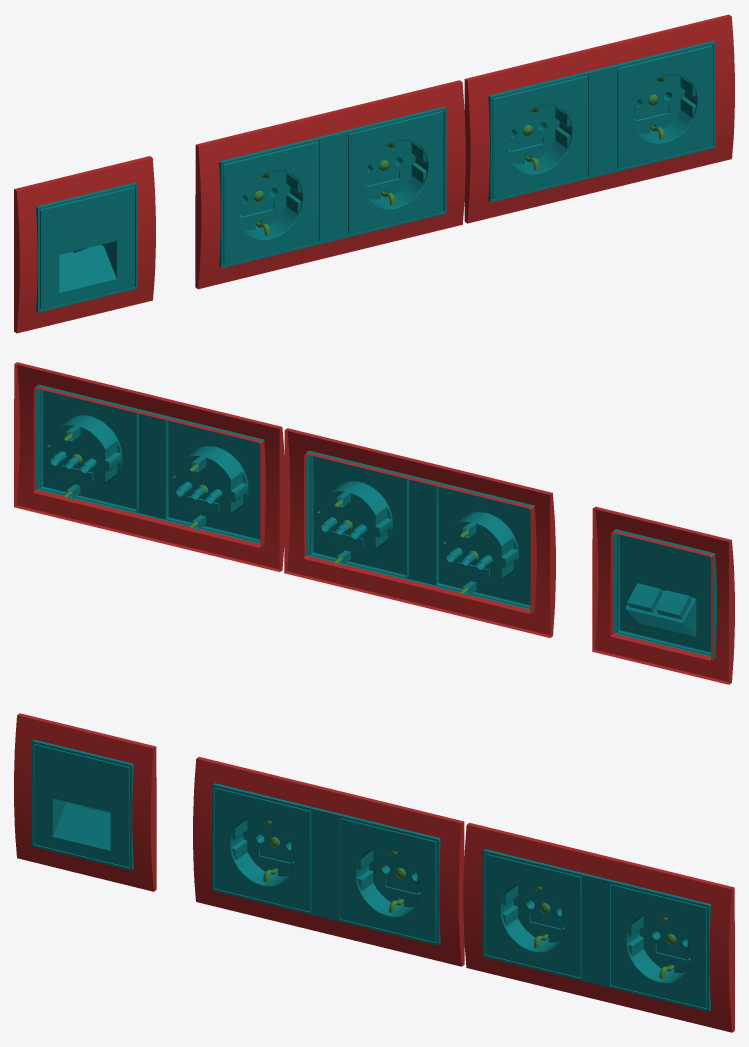
File: SM_Socket_035.fbx
3 views of the same model, one above another, from view 1: azimuth 30°, elevation 25°; view 2: azimuth 150°, elevation 25°; view 3: azimuth 330°, elevation 25° (orthographic).
Visible parts, largest first — view 1: SM_Socket_035; view 2: SM_Socket_035; view 3: SM_Socket_035.
Part boxes in pixels (x1,y1,x2,y2): SM_Socket_035: [14, 14, 734, 333]; SM_Socket_035: [14, 362, 734, 684]; SM_Socket_035: [14, 713, 734, 1032].
Size of the model in its own units: 43.73 by 8.45 by 2.51.
